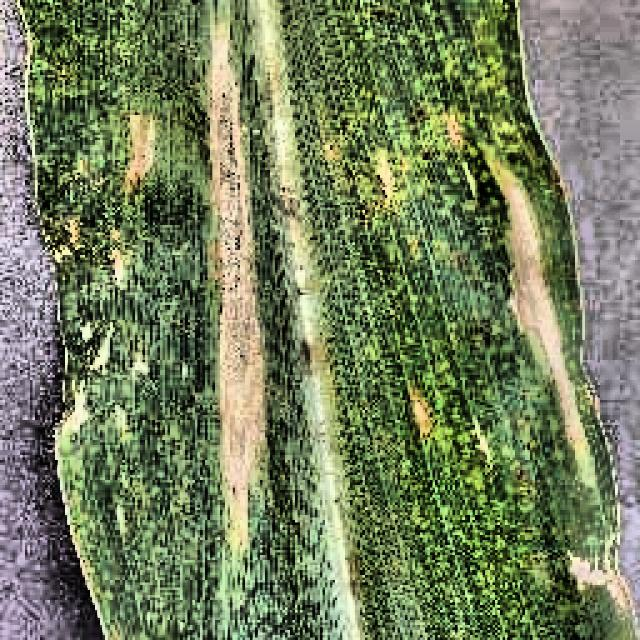blight: (18, 0, 608, 640)
